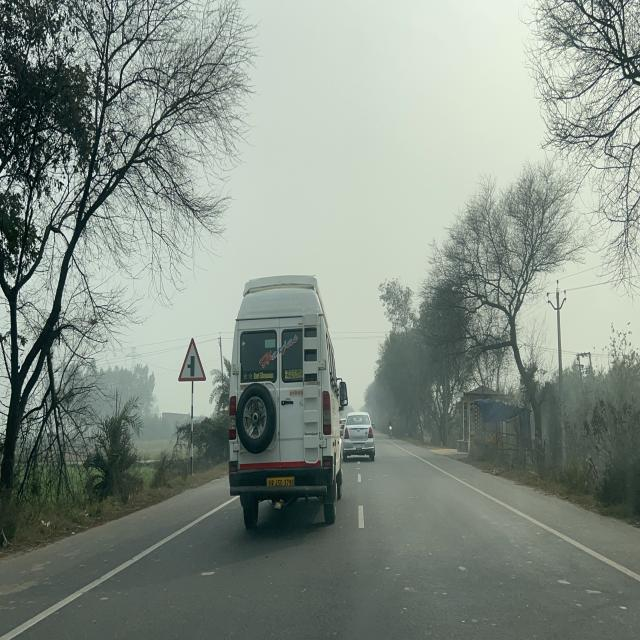SIDE_ROAD_LEFT: (178, 337, 207, 381)
